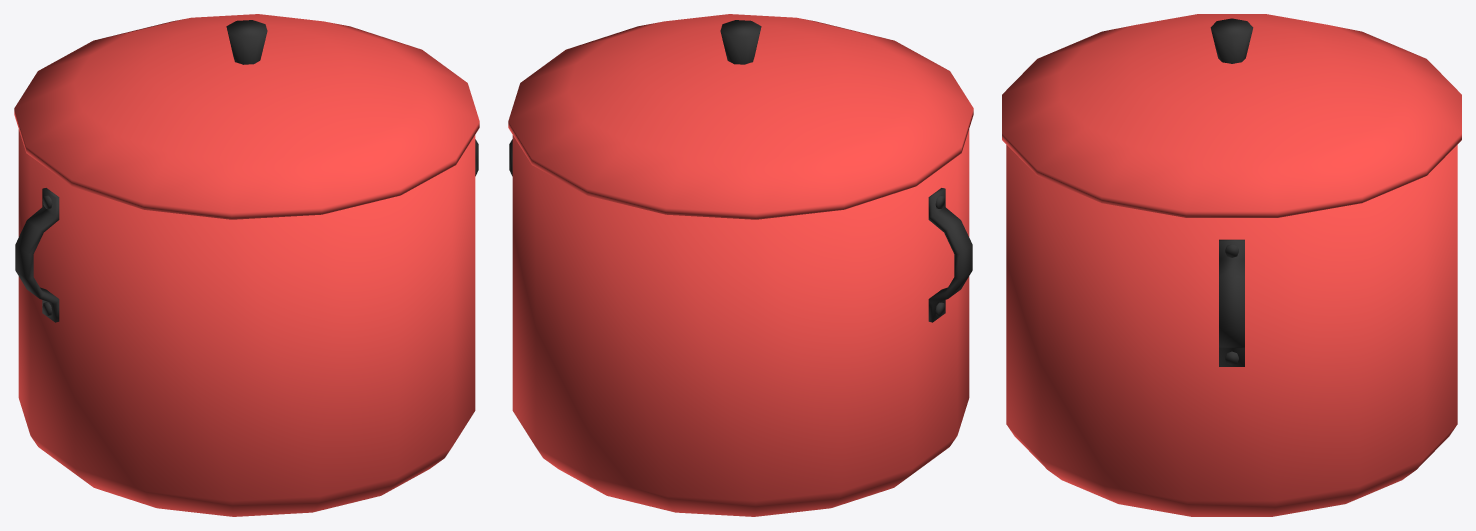
File: каструл.fbx
The picture shows the model from 3 angles, left to right: view 1: azimuth 30°, elevation 25°; view 2: azimuth 150°, elevation 25°; view 3: azimuth 270°, elevation 25°; orthographic projection.
Parts seen in each view (by area): view 1: каструл; view 2: каструл; view 3: каструл.
Boxes of the visible parts, bbox=[...] form: каструл: bbox=[14, 14, 479, 516]; каструл: bbox=[508, 14, 973, 516]; каструл: bbox=[1002, 14, 1461, 516].
Size of the model in its own units: 3.92 by 3.4 by 3.45.
Materials: 1 (1 with a texture image).
